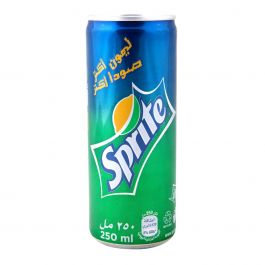sprite_can: (86, 16, 178, 247)
